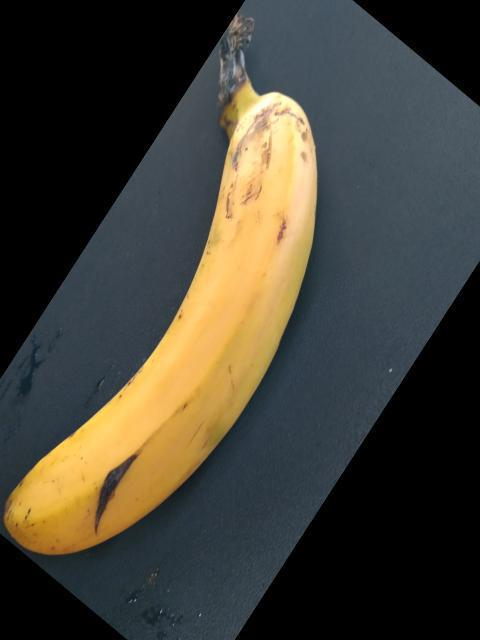ripe: (0, 85, 327, 563)
